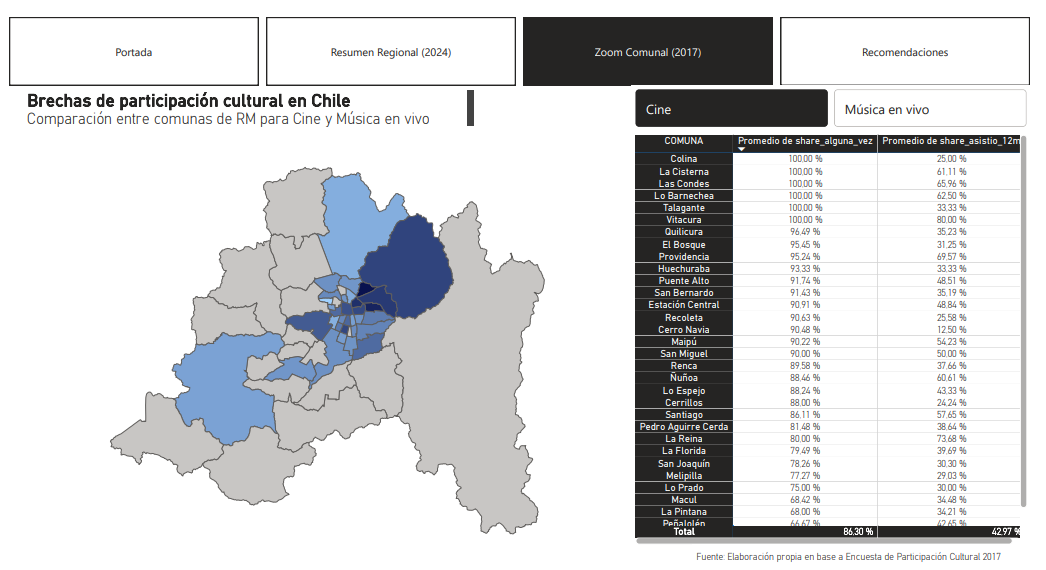

What the dashboard file says about the page in this screenshot:
{"tool":"powerbi","page":{"name":"Zoom Comunal (2017)","canvas":[1280,720],"ordinal":2},"visuals":[{"type":"pageNavigator","box":[0,32.4,1259.7,85.1],"z":0},{"type":"shapeMap","fields":{"Category":["DimComuna.COMUNA"],"Value":["Avg(public vw_kpis_comuna_2017.share_asistio_12m)"]},"box":[16.7,188.3,750,511.7],"z":1000},{"type":"pivotTable","fields":{"Rows":["DimComuna.COMUNA"],"Values":["Avg(public vw_kpis_comuna_2017.share_alguna_vez)","Avg(public vw_kpis_comuna_2017.share_asistio_12m)"]},"box":[766.7,173.3,493.3,515],"z":2000},{"type":"advancedSlicerVisual","fields":{"Values":["DimDisciplina.disciplina_label"]},"box":[766.7,116.7,493.3,56.7],"z":3000},{"type":"textbox","box":[16.7,118.3,561.7,55],"z":4000},{"type":"textbox","box":[841.7,683.3,396.7,31.7],"z":5000}]}

Visuals, with their boxes in screenshot pixels (x1, y1, x2, y2):
pageNavigator: BBox(35, 17, 1018, 83)
shapeMap - DimComuna.COMUNA x Avg(public vw_kpis_comuna_2017.share_asistio_12m): BBox(48, 139, 633, 538)
pivotTable - DimComuna.COMUNA x Avg(public vw_kpis_comuna_2017.share_alguna_vez): BBox(633, 127, 1018, 529)
advancedSlicerVisual - DimDisciplina.disciplina_label: BBox(633, 83, 1018, 127)
textbox: BBox(48, 84, 486, 127)
textbox: BBox(692, 525, 1001, 549)
